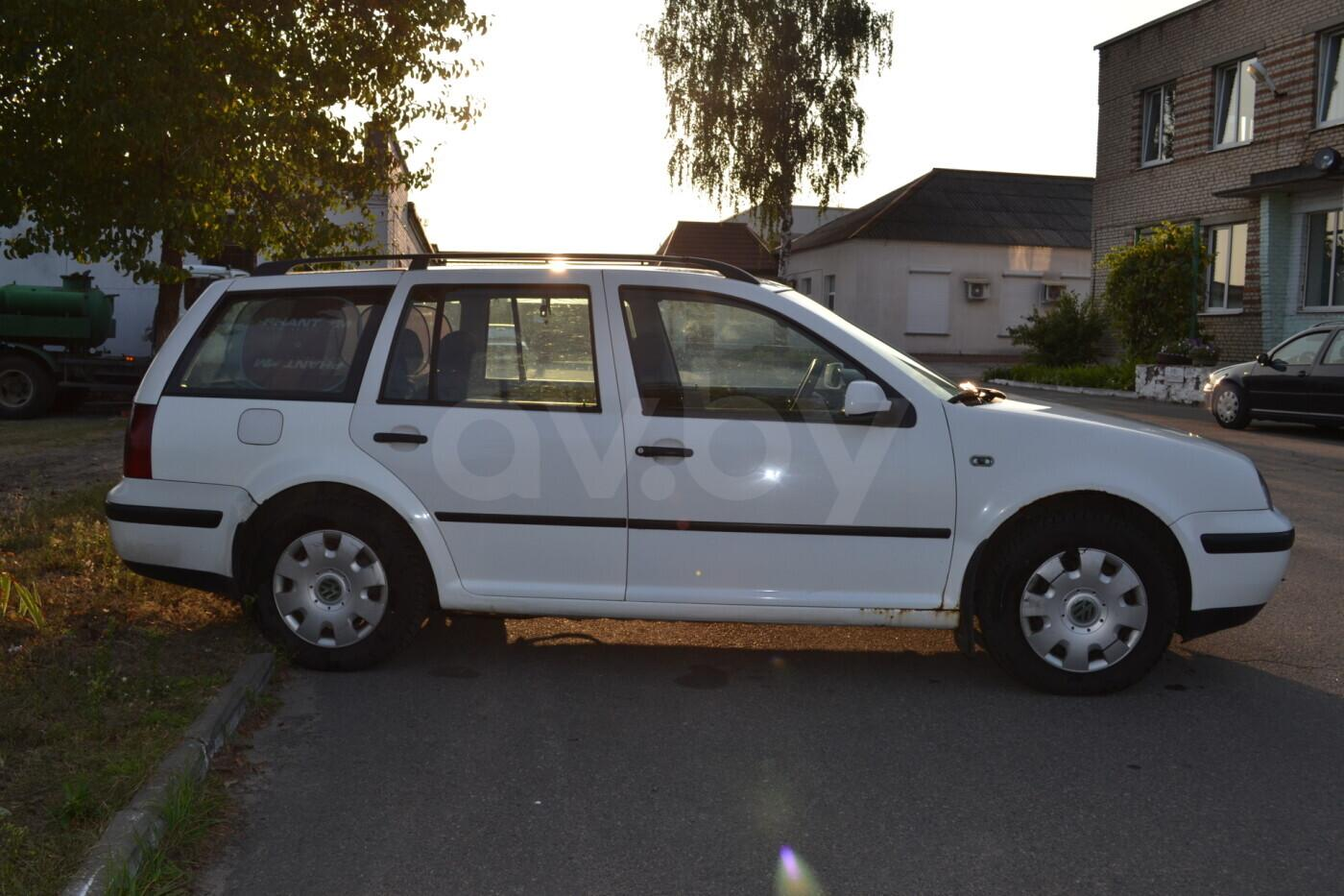Golf_1997-2006: (102, 258, 1295, 689)
